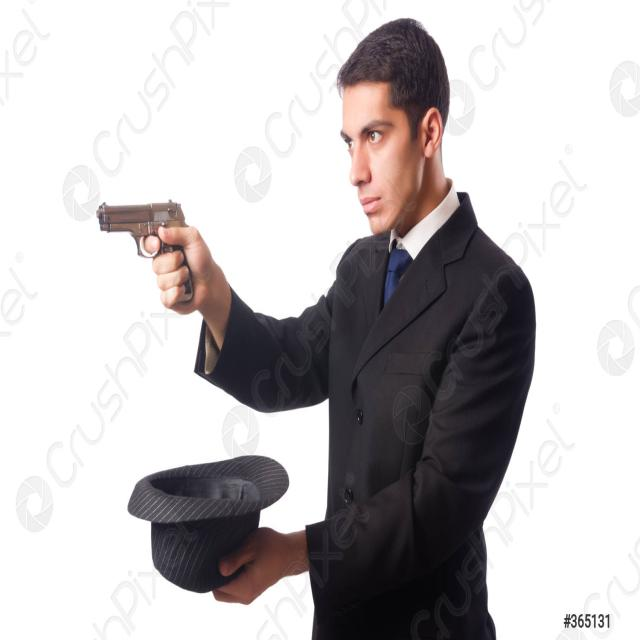HandGun: (96, 200, 193, 295)
